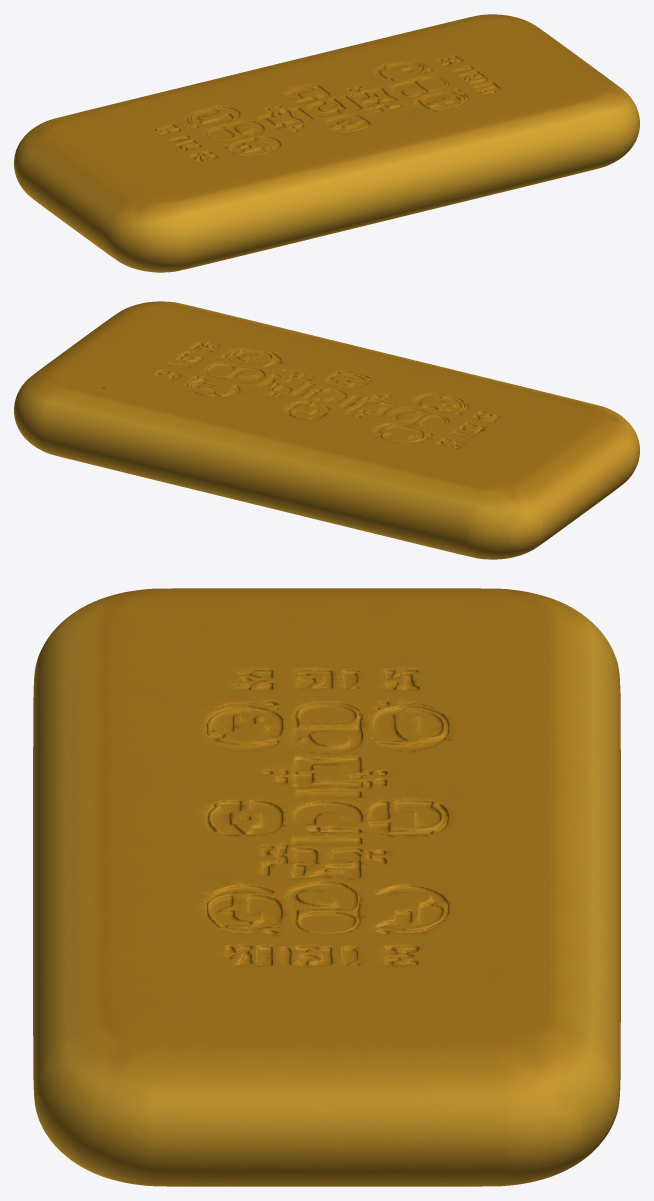
The model's file is gold-bar-text-gen.glb.
3 views of the same model, one above another, from view 1: azimuth 30°, elevation 25°; view 2: azimuth 150°, elevation 25°; view 3: azimuth 270°, elevation 25° (orthographic). The views are drawn at different scales.
Size of the model in its own units: 1.9 by 0.2426 by 0.9185.
1 material, 1 textured.
